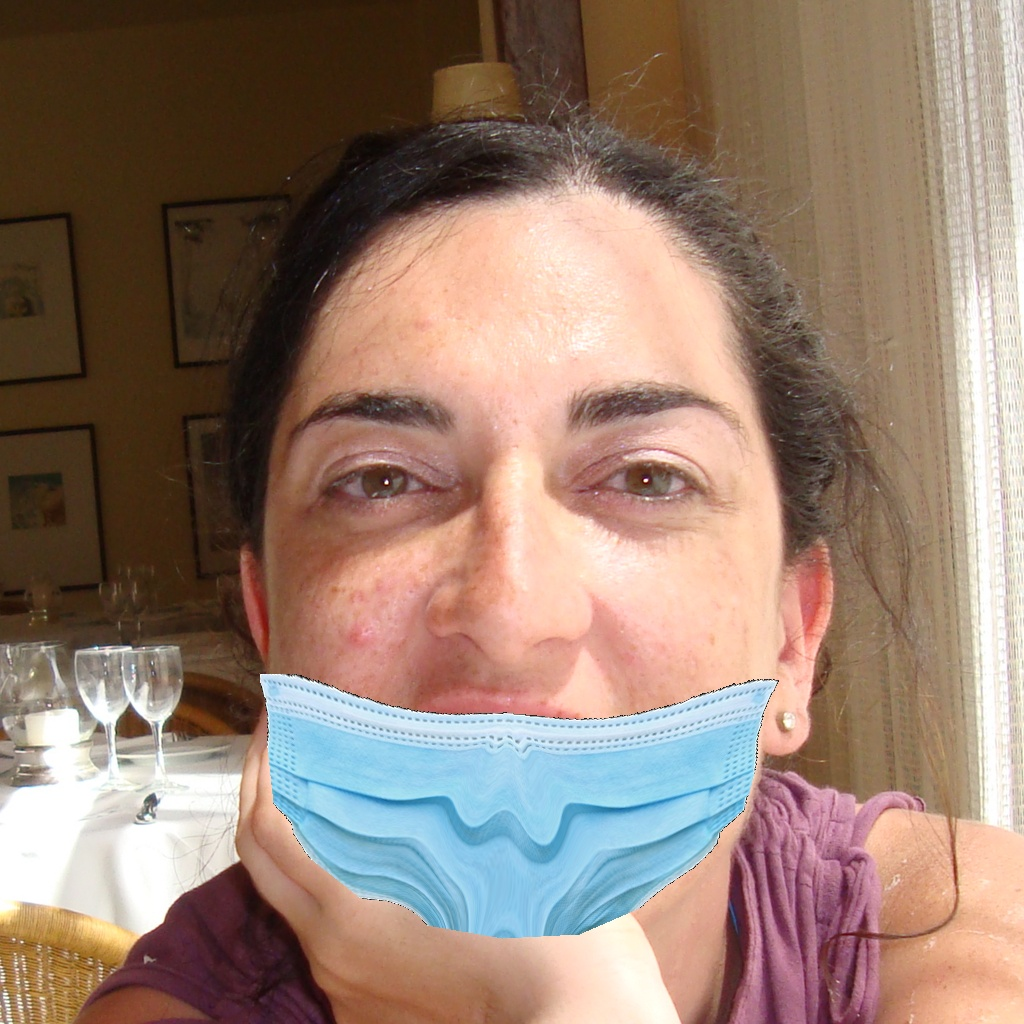mascarilla_mal_puesta: (269, 363, 797, 955)
